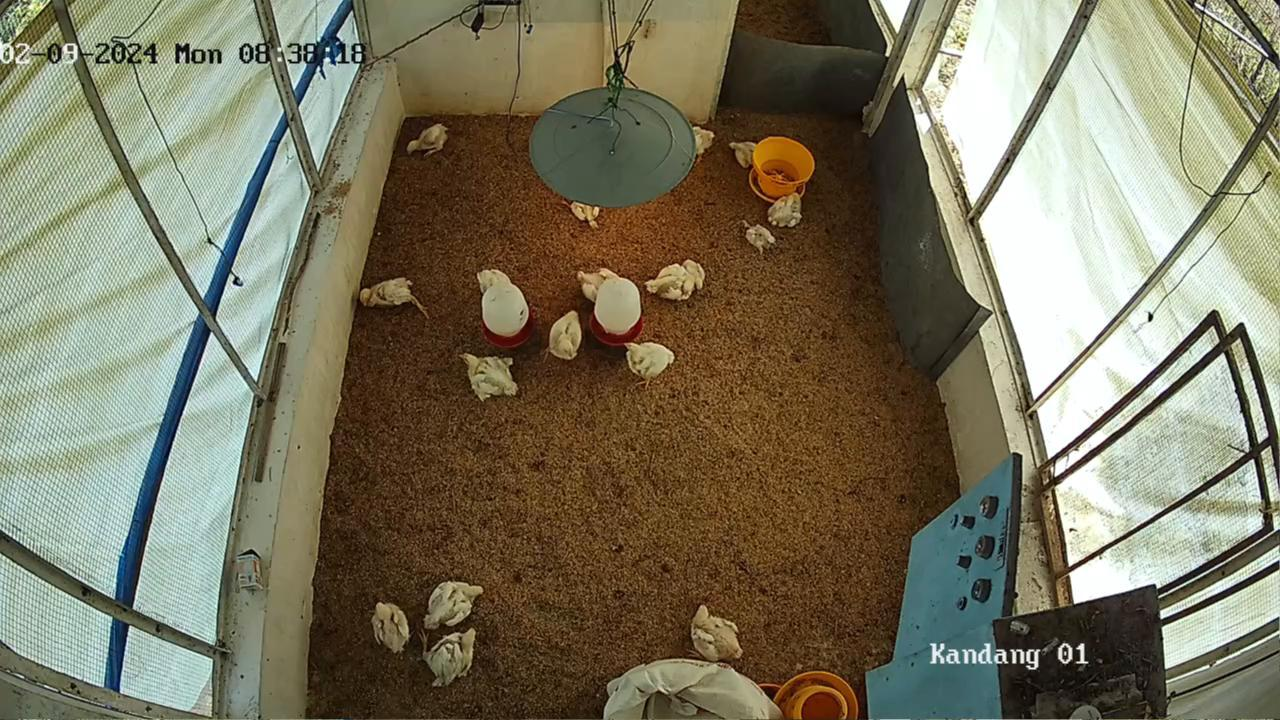chicken: (424, 623, 479, 692), (687, 600, 745, 664), (422, 577, 481, 632), (459, 354, 520, 403), (621, 337, 678, 382), (371, 599, 412, 656), (358, 274, 415, 314), (643, 262, 695, 302), (548, 307, 583, 362), (404, 123, 449, 157), (766, 190, 804, 229), (578, 270, 616, 306), (472, 268, 511, 298), (727, 137, 763, 169), (744, 222, 778, 255), (570, 198, 602, 230), (688, 124, 718, 156), (682, 258, 706, 291)
